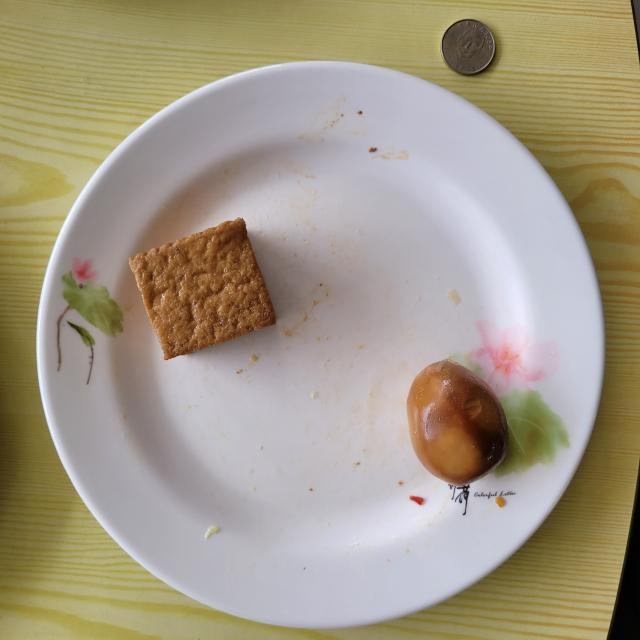coin: (440, 19, 495, 75)
egg tofu: (129, 218, 276, 360)
soy egg: (408, 359, 509, 486)
